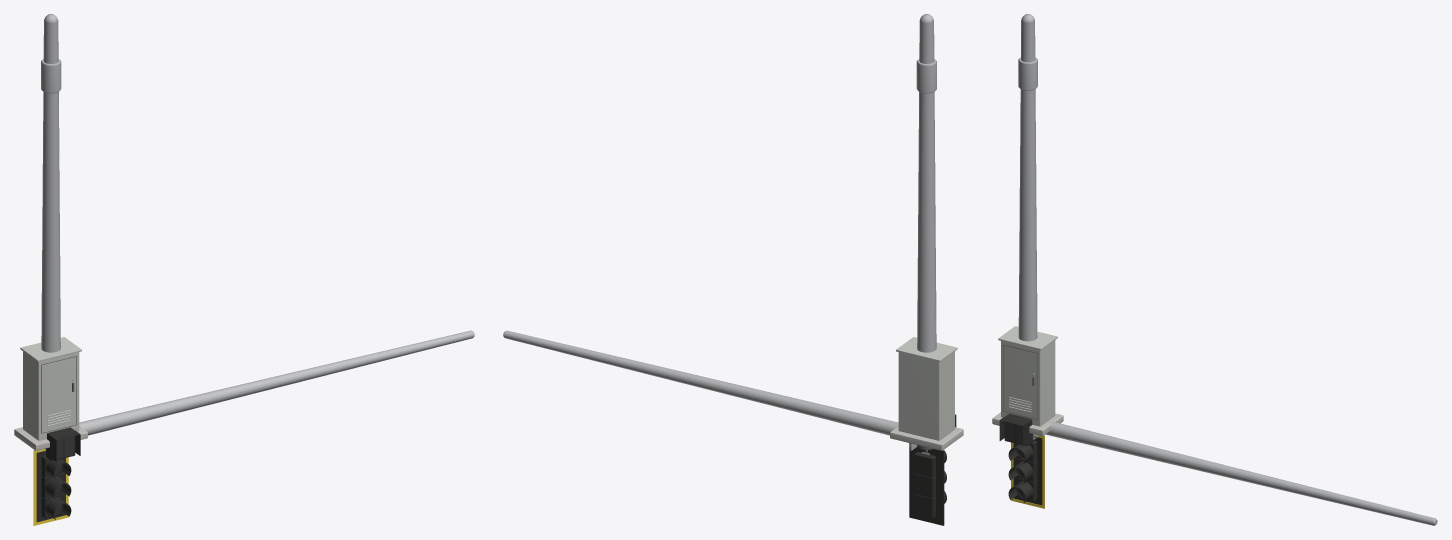
The model's file is traffic_signal.glb.
3 renders of one model, left to right at view 1: azimuth 30°, elevation 25°; view 2: azimuth 150°, elevation 25°; view 3: azimuth 330°, elevation 25°, orthographic. The views are drawn at different scales.
Parts seen in each view (by area): view 1: sig_pole, sig_cabinet, sig_arm, sig_head, sig_ped; view 2: sig_pole, sig_cabinet, sig_arm, sig_head; view 3: sig_pole, sig_cabinet, sig_arm, sig_head, sig_ped.
Boxes of the visible parts, x1,y1,x2,y2 form: sig_pole: (41, 14, 61, 352); sig_cabinet: (14, 337, 87, 450); sig_arm: (79, 330, 474, 435); sig_head: (33, 449, 71, 525); sig_ped: (45, 427, 80, 461); sig_pole: (916, 14, 936, 352); sig_cabinet: (890, 337, 963, 450); sig_arm: (503, 330, 916, 450); sig_head: (909, 443, 946, 525); sig_pole: (1018, 14, 1037, 341); sig_cabinet: (992, 326, 1063, 436); sig_arm: (1033, 420, 1437, 525); sig_head: (1008, 435, 1044, 508); sig_ped: (999, 413, 1033, 446).
Size of the model in its own units: 8.5 by 9.17 by 0.93.
